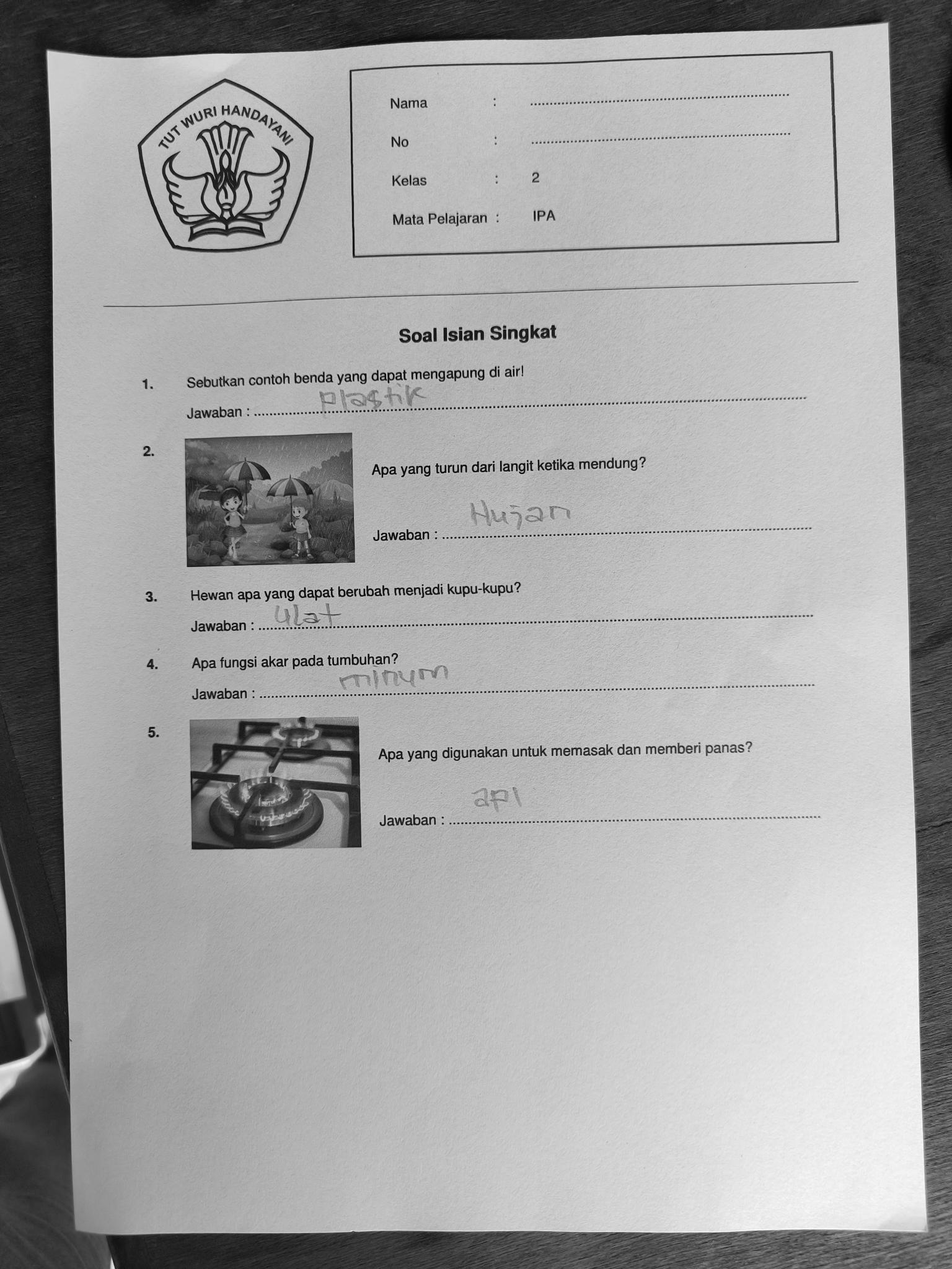soal-1: (135, 342, 821, 429)
soal-2: (135, 409, 827, 573)
soal-3: (138, 552, 828, 645)
soal-4: (139, 629, 832, 708)
soal-5: (137, 697, 832, 860)
